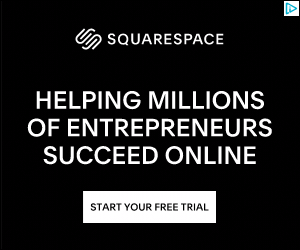fake_button: (78, 188, 219, 230), (272, 0, 300, 19)
